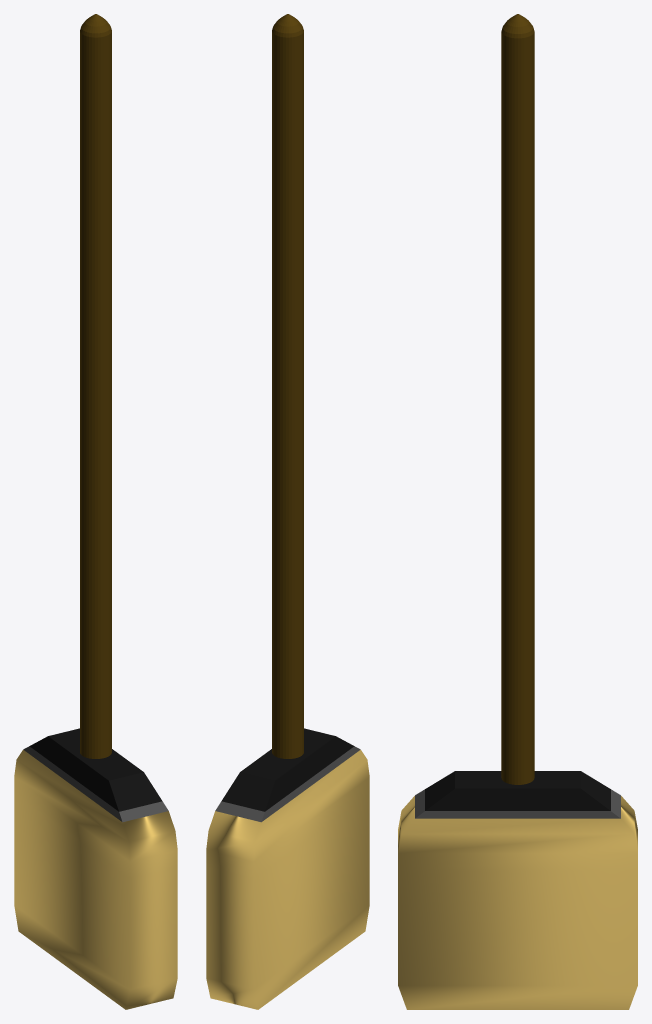
File: broomN.fbx
3 views of the same model, side by side, from view 1: azimuth 30°, elevation 25°; view 2: azimuth 150°, elevation 25°; view 3: azimuth 270°, elevation 25° (orthographic). The views are drawn at different scales.
Parts seen in each view (by area): view 1: Broom; view 2: Broom; view 3: Broom.
Part boxes in pixels (x1,y1,x2,y2): Broom: (14, 14, 177, 1009); Broom: (206, 14, 369, 1009); Broom: (398, 14, 637, 1009).
Size of the model in its own units: 69.12 by 1316 by 291.
